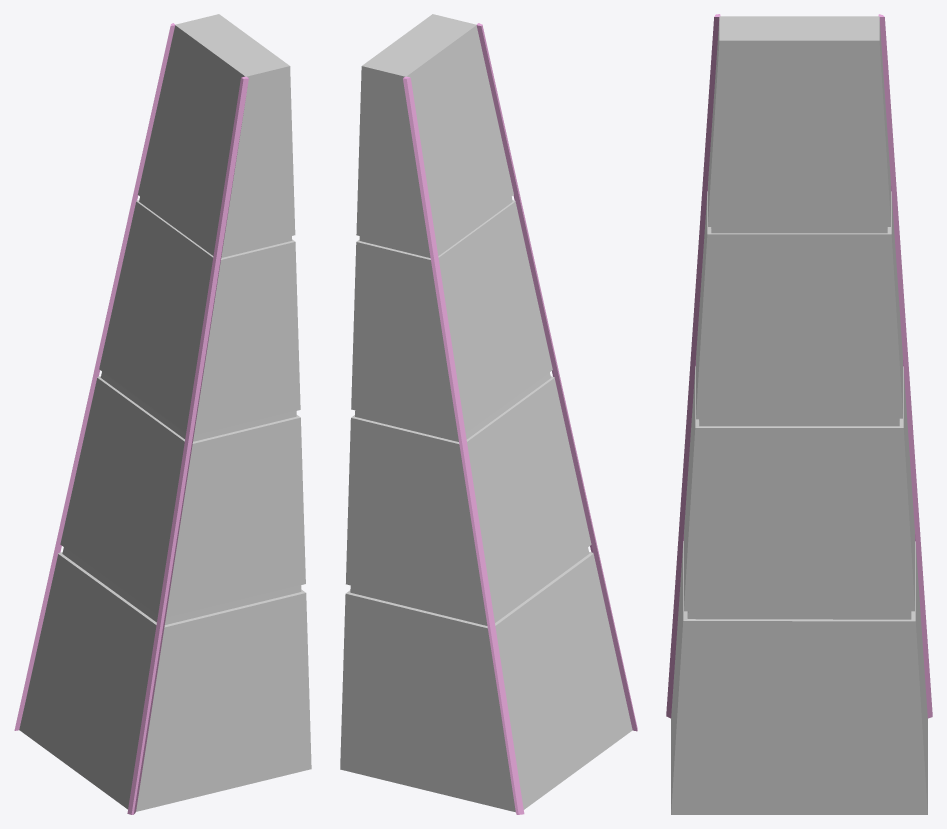
The model's file is SM_Environment_Buildings_Mid_06.fbx.
3 views of the same model, side by side, from view 1: azimuth 30°, elevation 25°; view 2: azimuth 150°, elevation 25°; view 3: azimuth 270°, elevation 25° (orthographic). The views are drawn at different scales.
Visible parts, largest first — view 1: SM_Environment_Buildings_Mid_06, Lights; view 2: SM_Environment_Buildings_Mid_06, Lights; view 3: SM_Environment_Buildings_Mid_06, Lights.
Boxes of the visible parts, <box> form: SM_Environment_Buildings_Mid_06: <box>19,14,311,811</box>; Lights: <box>14,23,248,814</box>; SM_Environment_Buildings_Mid_06: <box>340,14,632,812</box>; Lights: <box>403,23,637,814</box>; SM_Environment_Buildings_Mid_06: <box>671,16,927,814</box>; Lights: <box>666,14,932,718</box>.
Size of the model in its own units: 12.87 by 46.01 by 14.36.
